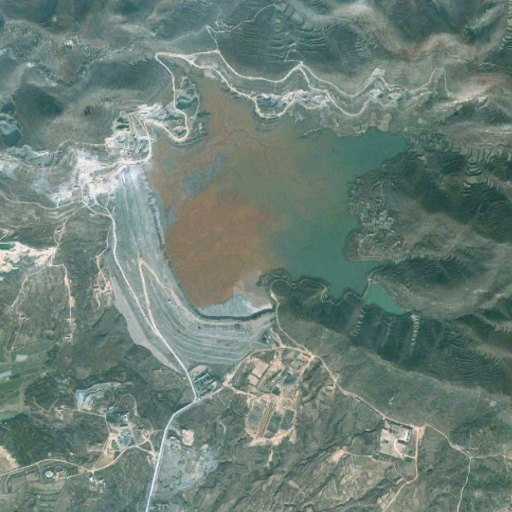tp: (108, 68, 418, 369)
